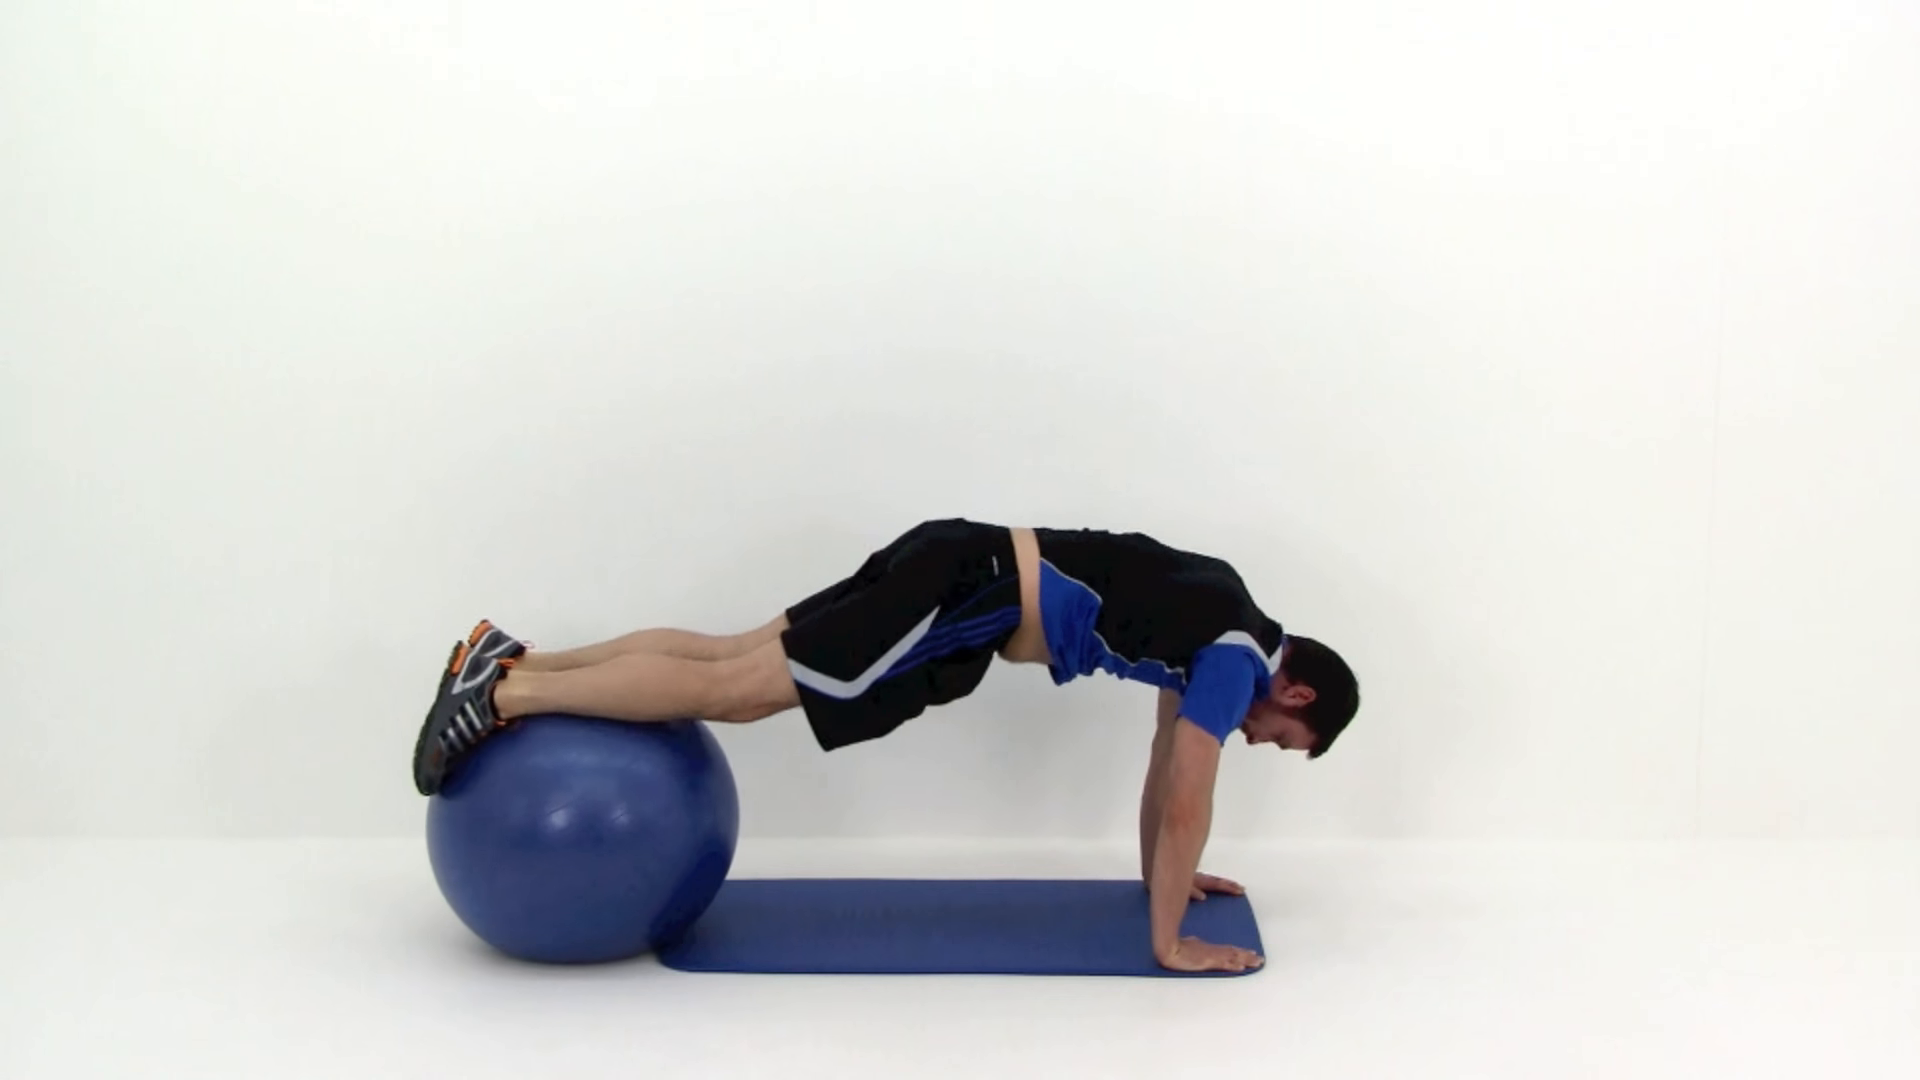yogaball: (413, 692, 752, 971)
